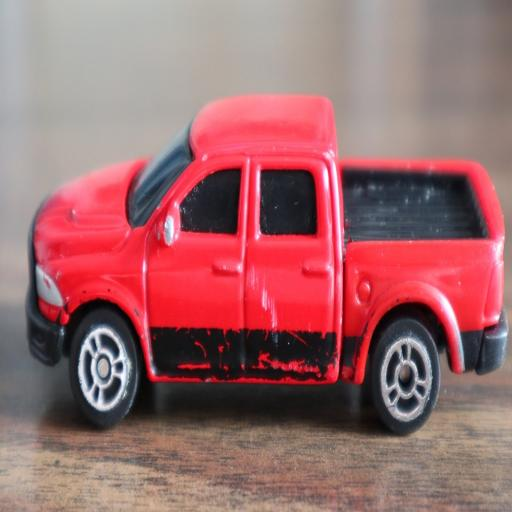pickup: (26, 95, 507, 433)
